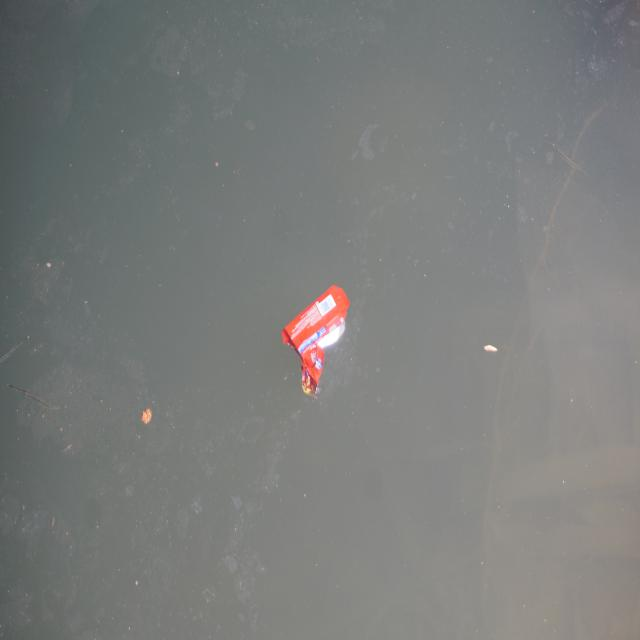Bungkus Makanan: (279, 284, 355, 403)
